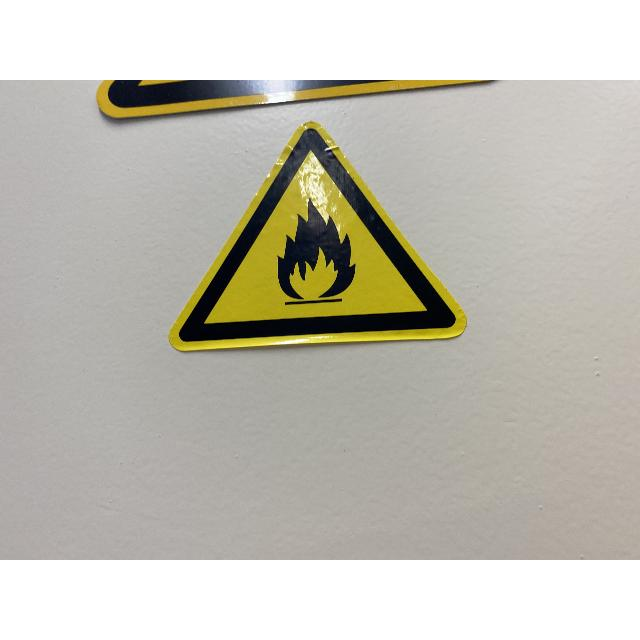fire hazard: (170, 121, 468, 351)
